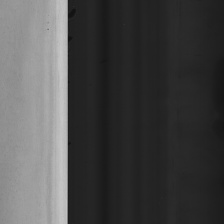inclusion: (0, 3, 27, 217), (46, 13, 50, 32)
